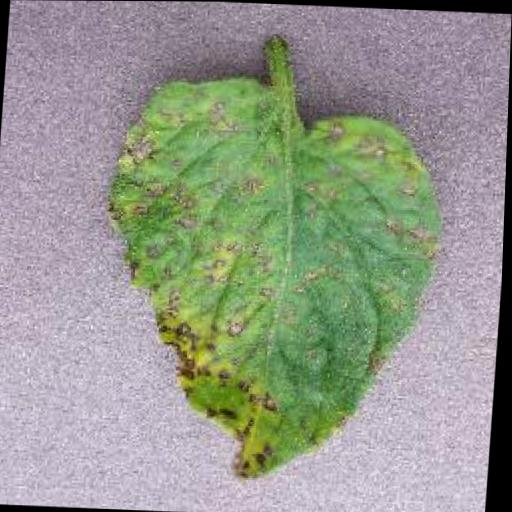Septoria: (91, 70, 453, 485)
